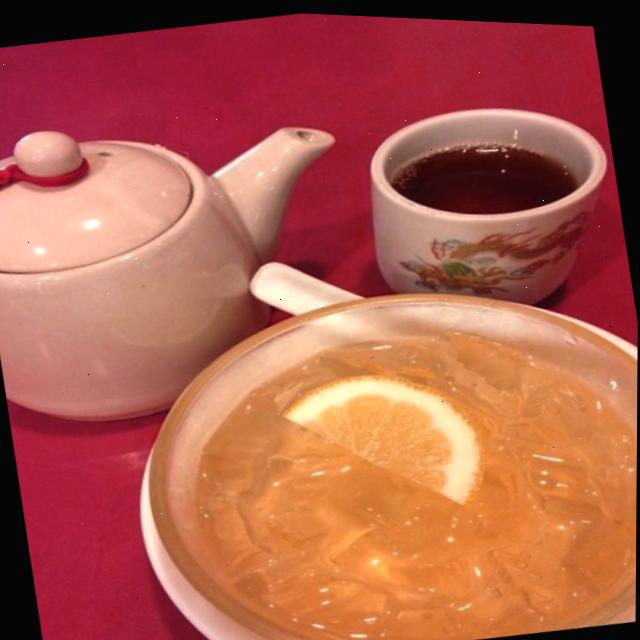蛋糕甜品: (151, 285, 638, 640)
